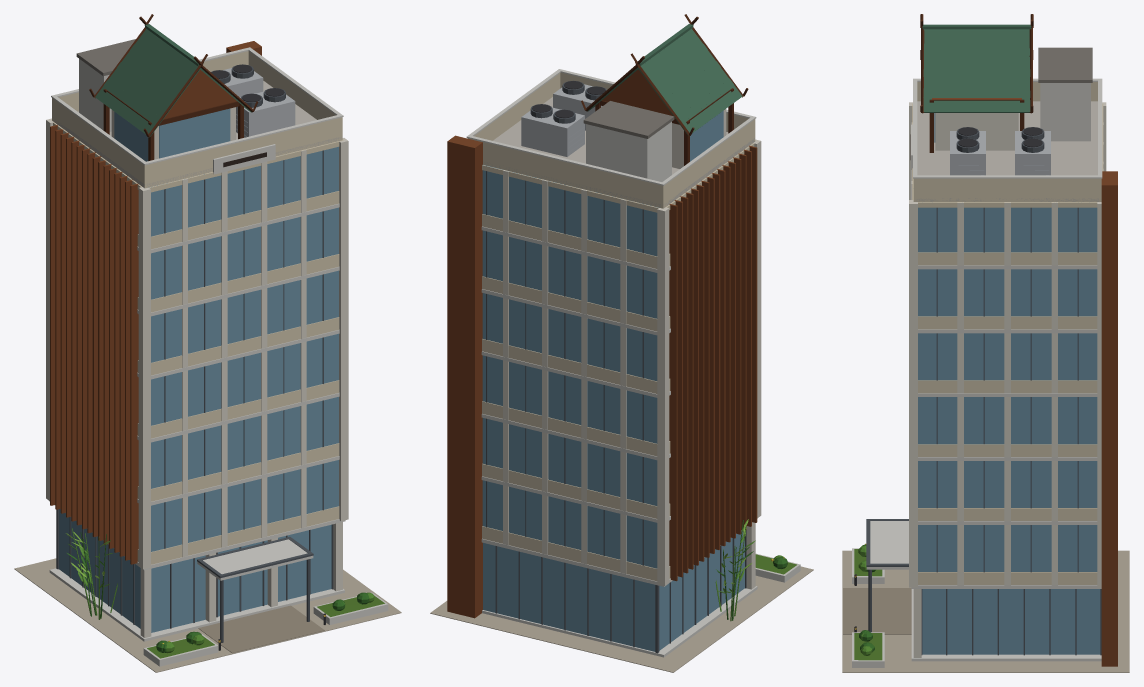
File: shop_3.glb
3 renders of one model, left to right at view 1: azimuth 30°, elevation 25°; view 2: azimuth 150°, elevation 25°; view 3: azimuth 270°, elevation 25°, orthographic. The views are drawn at different scales.
Visible parts, largest first — view 1: body; view 2: body; view 3: body.
Boxes of the visible parts, x1,y1,x2,y2 form: body: (14, 14, 401, 672); body: (430, 14, 813, 672); body: (842, 14, 1129, 672).
Bounding box in the file's own units: 16.59 × 35.17 × 15.9.
